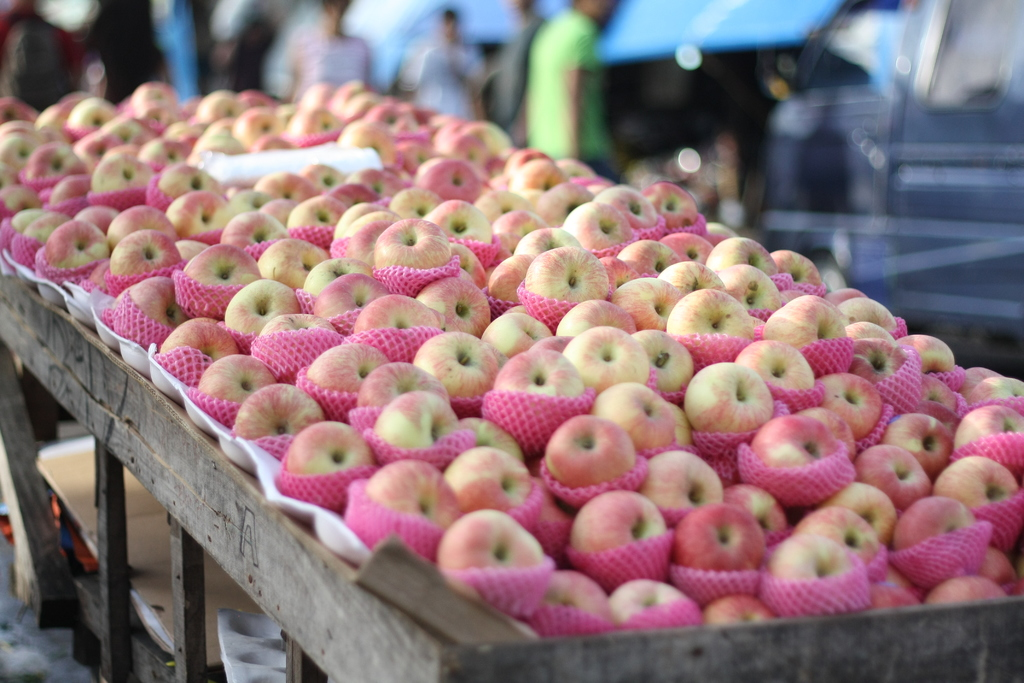Apple: (0, 82, 1021, 622), (441, 520, 548, 608)
